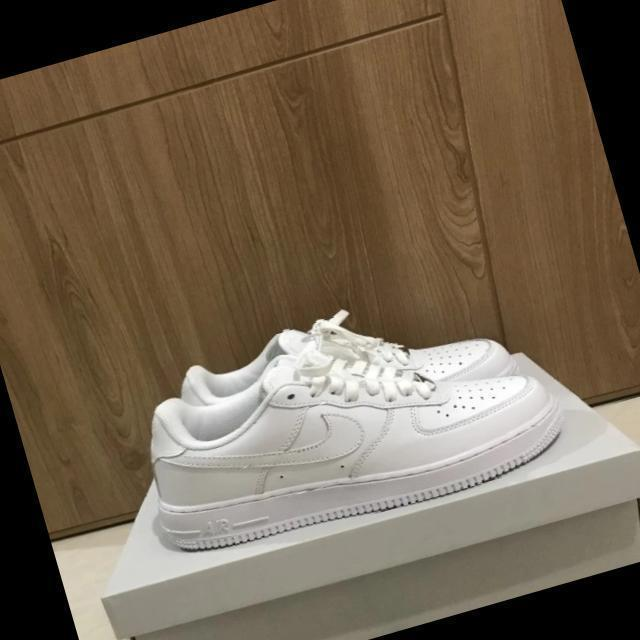nike original air force: (122, 285, 581, 575), (174, 266, 526, 464)
